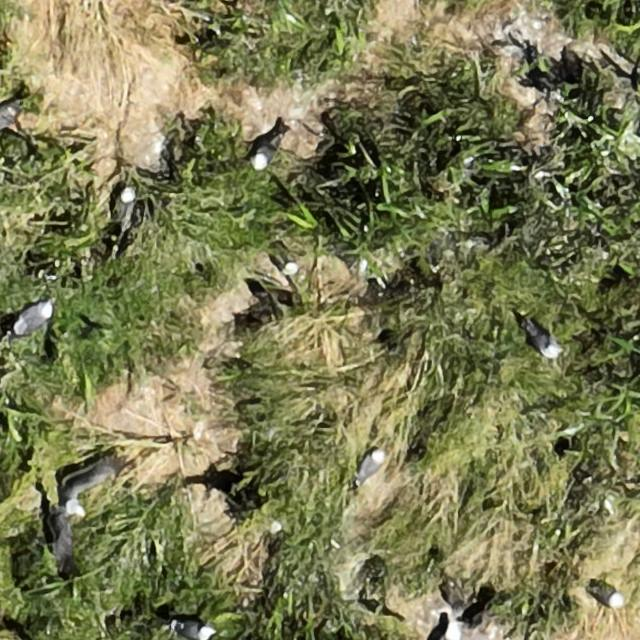F: (50, 459, 118, 560)
umineko: (13, 301, 51, 331), (268, 238, 295, 277), (529, 328, 560, 358), (2, 96, 22, 134), (359, 452, 384, 481), (592, 585, 624, 606), (176, 621, 212, 639), (253, 140, 274, 170), (119, 187, 136, 217), (440, 617, 460, 638)
